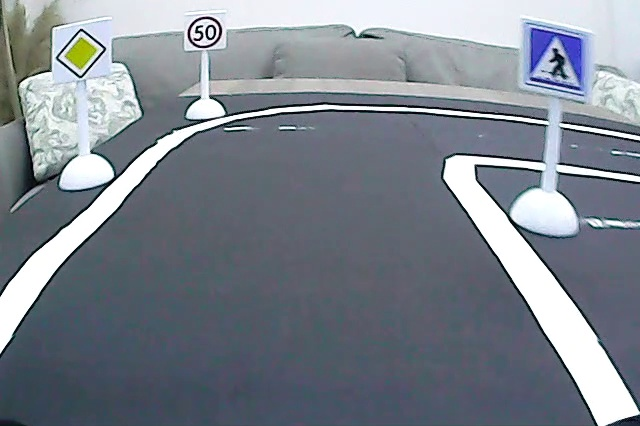pedestrian crossing: (521, 22, 590, 99)
speed limit 50: (185, 13, 225, 48)
